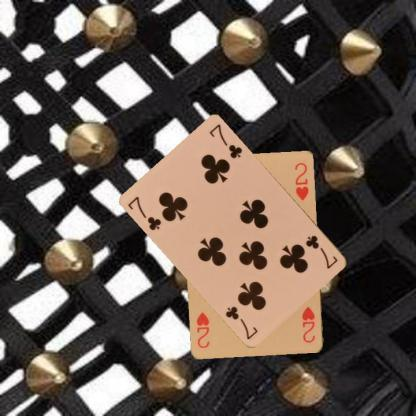2h: (299, 304, 317, 344)
7c: (125, 194, 163, 232), (303, 233, 340, 270)
